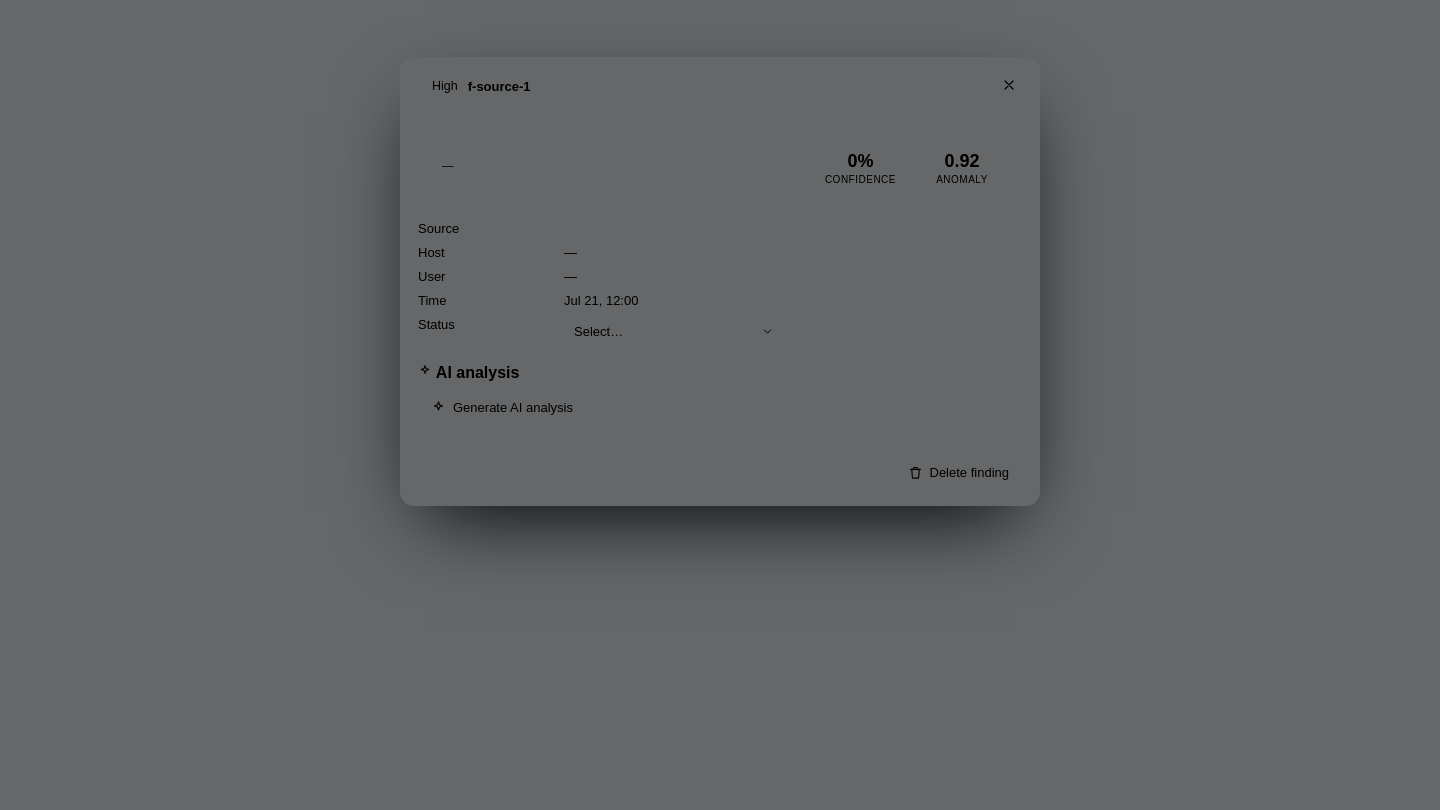
Test: FindingPopup AI enrichment errors › still offers retry when enrichment fails for another reason
Click the button "Generate AI analysis".
click(502, 407)  # box x1=418 y1=392 x2=586 y2=423
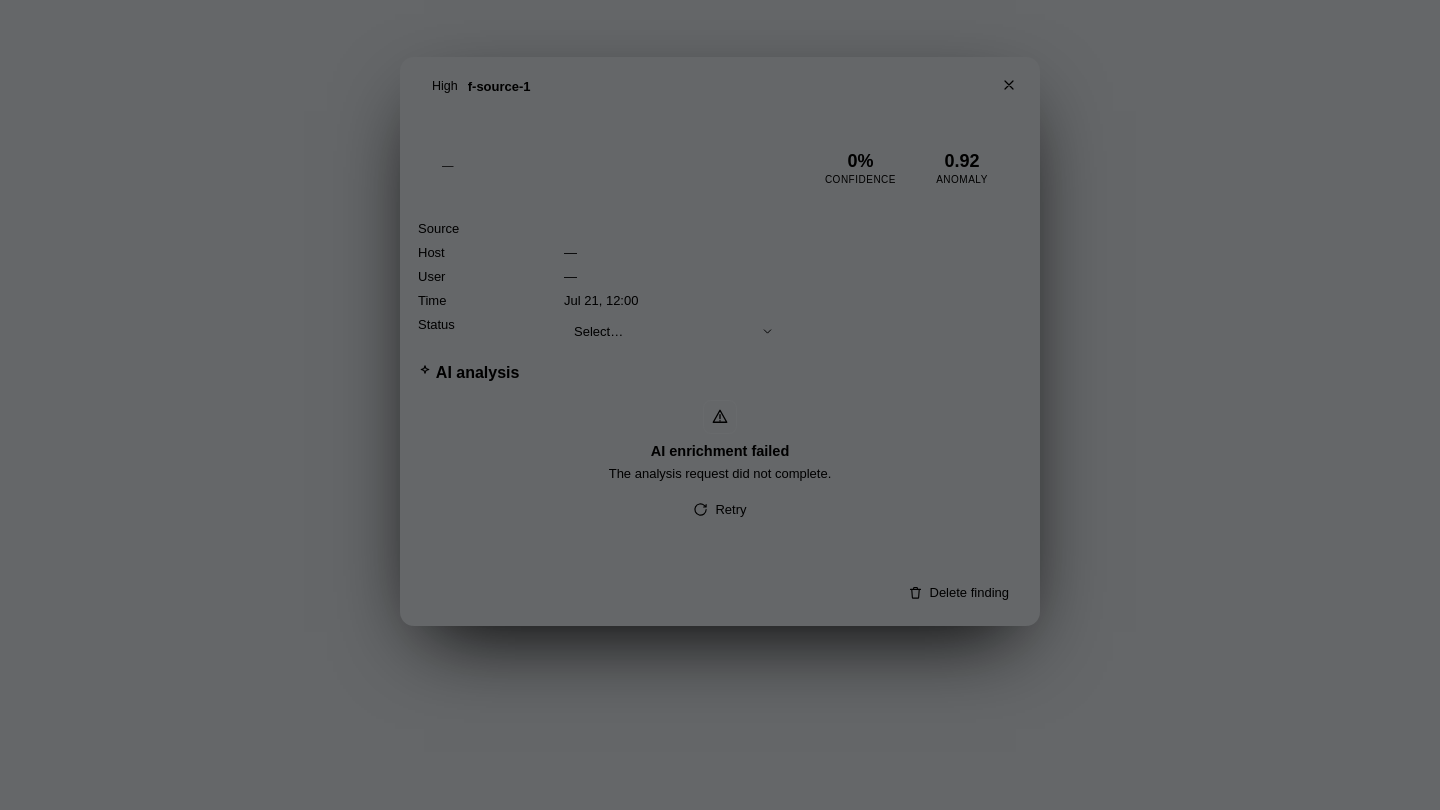
Result: the heading "AI enrichment failed" is shown at x1=651 y1=443 x2=789 y2=459
Result: the button "Retry" is shown at x1=680 y1=494 x2=760 y2=525
